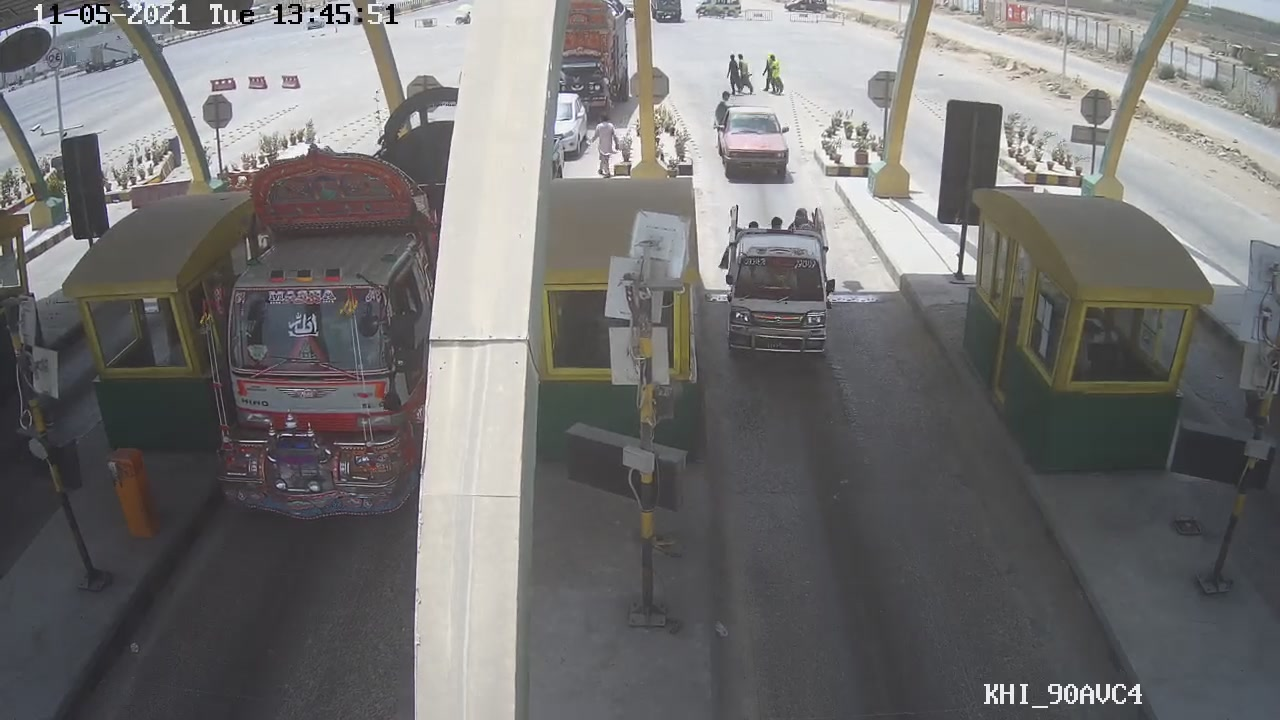F1: (715, 203, 846, 363)
